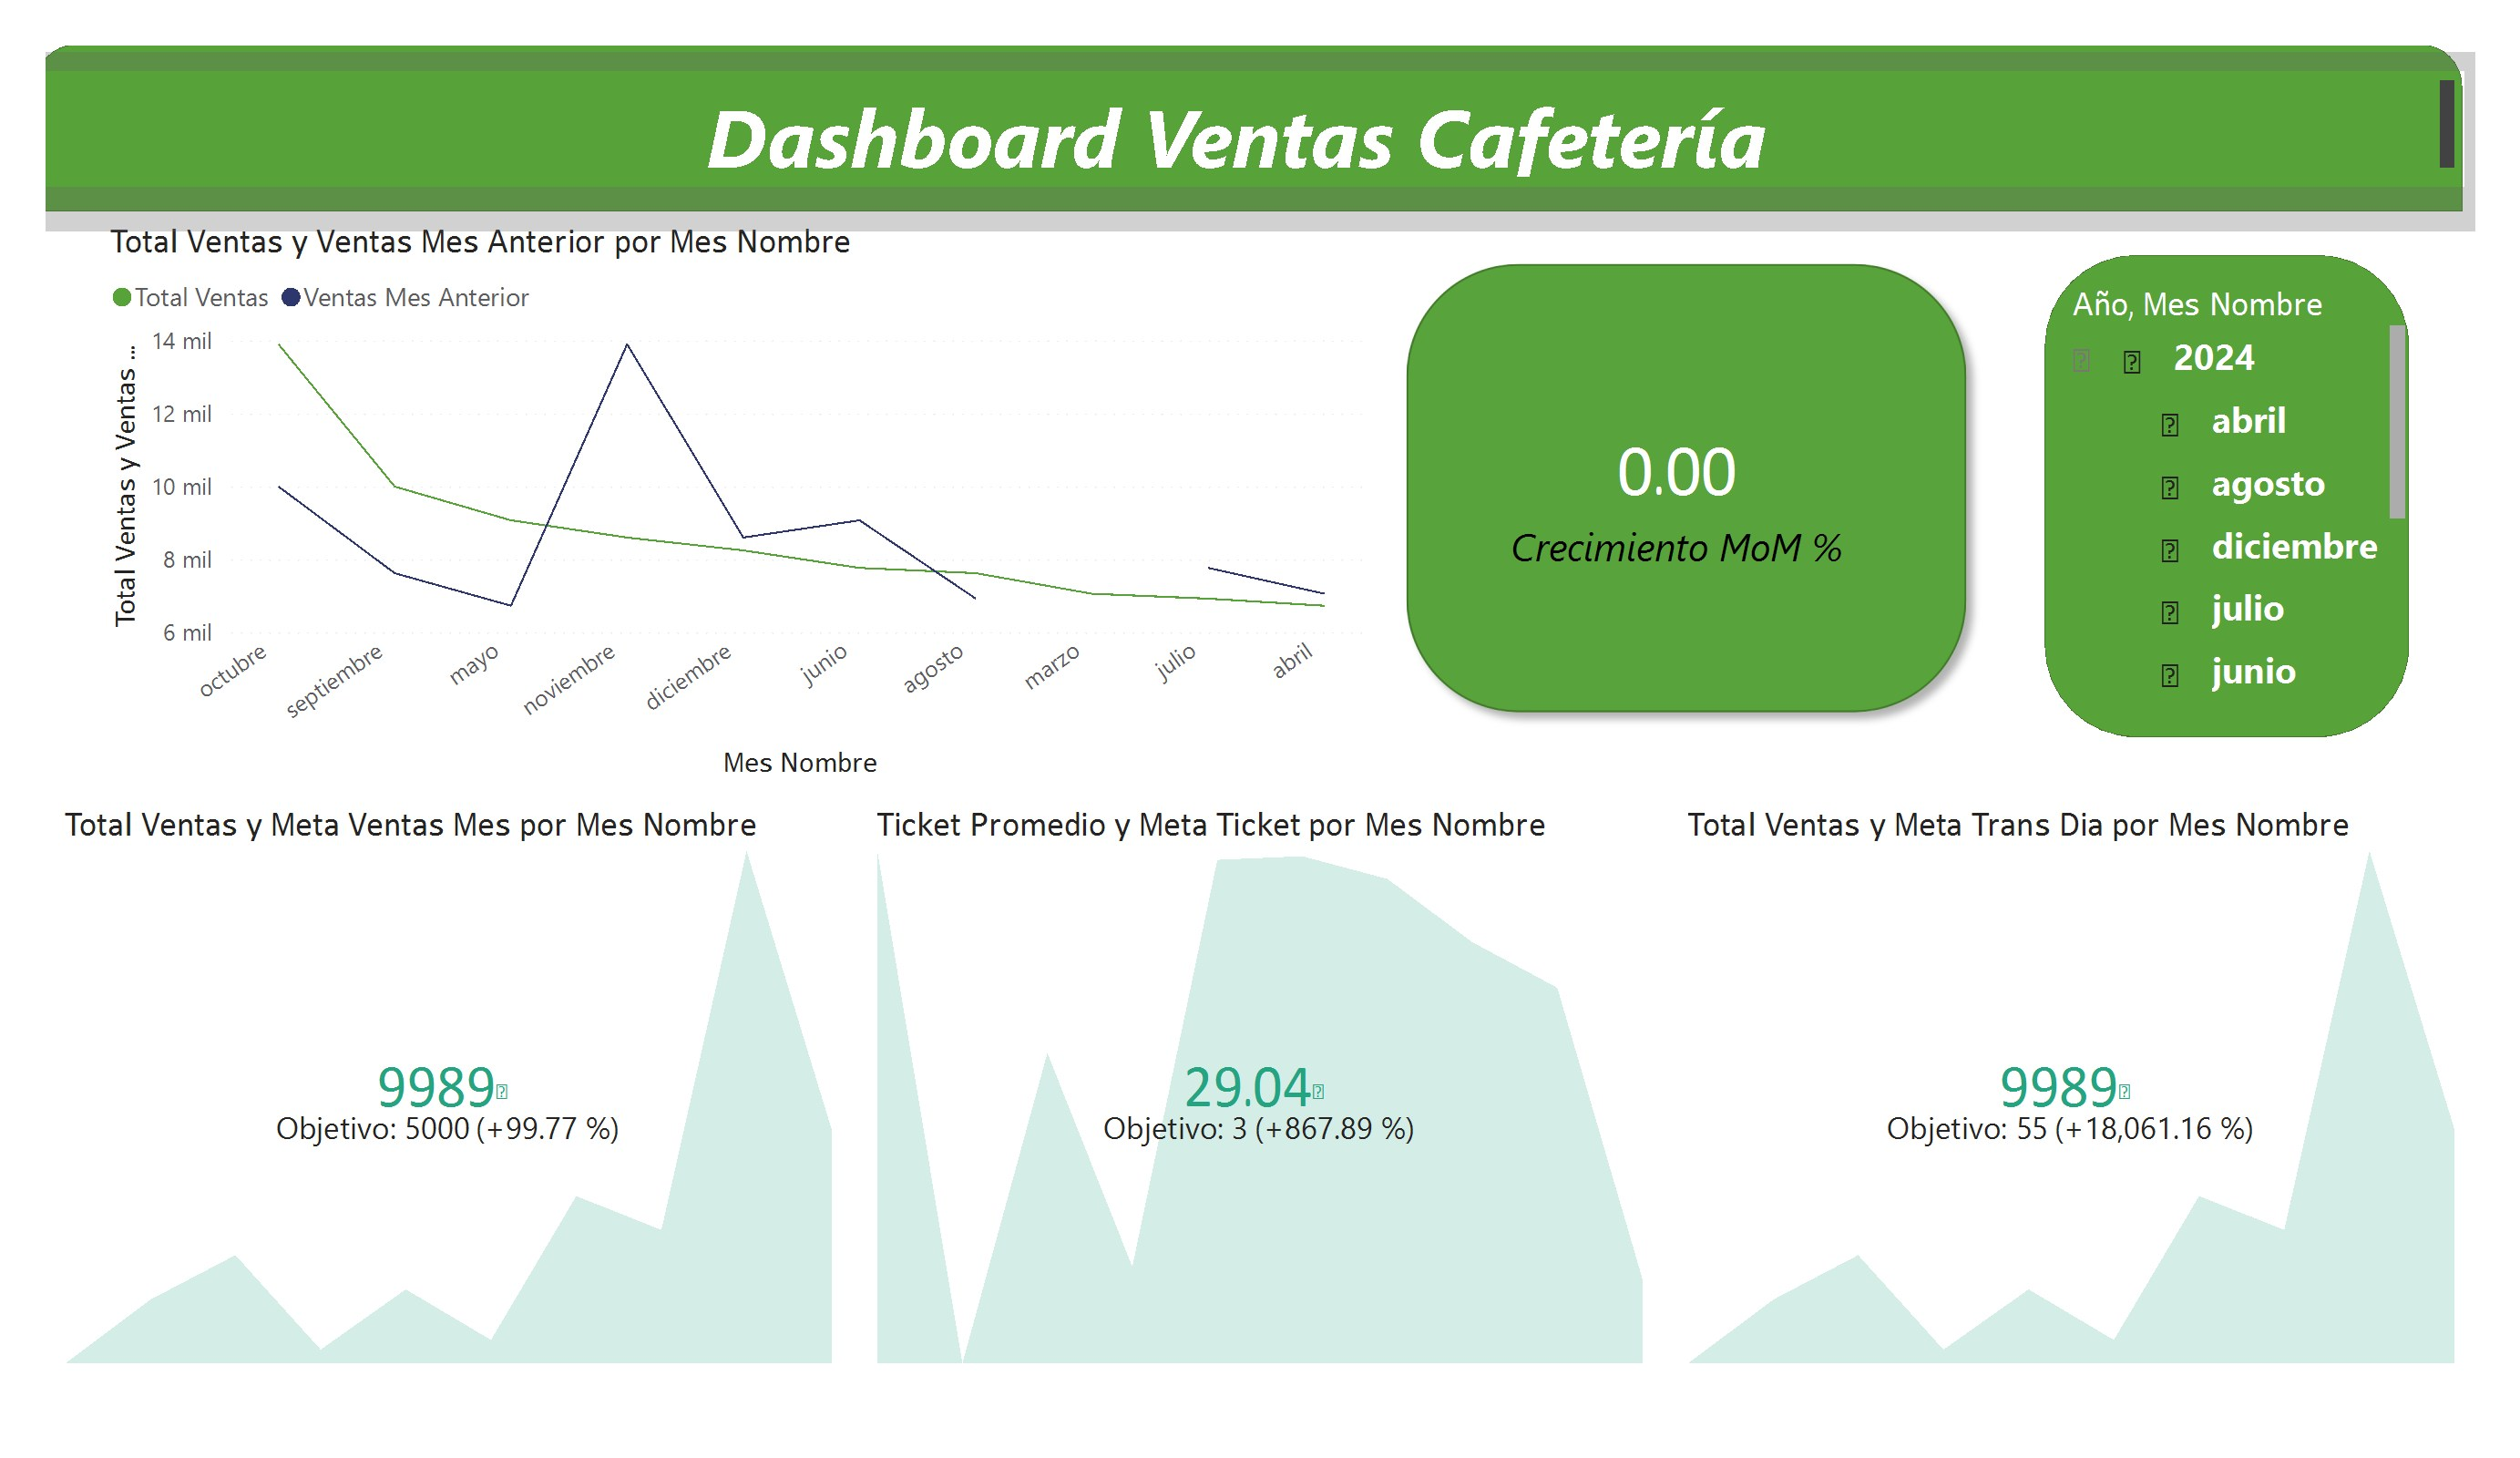

Layout of this report page (visuals, bound fields, positions):
{"tool":"powerbi","page":{"name":"Página 1","canvas":[1280,720],"ordinal":0},"visuals":[{"type":"shape","box":[1052.5,110,192.5,253.8],"z":0},{"type":"shape","box":[707.5,106.2,313.8,253.8],"z":1000},{"type":"kpi","fields":{"Indicator":["index_maquinas.Total Ventas"],"Goal":["index_maquinas.Meta Trans Dia"],"TrendLine":["Calendario.Mes Nombre"]},"box":[860,400,413.8,298.8],"z":2000},{"type":"kpi","fields":{"Indicator":["index_maquinas.Total Ventas"],"Goal":["index_maquinas.Meta Ventas Mes"],"TrendLine":["Calendario.Mes Nombre"]},"box":[5,400,413.8,298.8],"z":3000},{"type":"kpi","fields":{"Indicator":["index_maquinas.Ticket Promedio"],"Goal":["index_maquinas.Meta Ticket"],"TrendLine":["Calendario.Mes Nombre"]},"box":[432.5,400,413.8,298.8],"z":4000},{"type":"card","fields":{"Values":["index_maquinas.Crecimiento MoM %"]},"box":[702.5,107.5,313.8,253.8],"z":5000},{"type":"lineChart","fields":{"Category":["Calendario.Mes Nombre"],"Y":["index_maquinas.Total Ventas","index_maquinas.Ventas Mes Anterior"]},"box":[28.8,92.5,673.8,298.8],"z":6000},{"type":"shape","box":[-5.9,-0.7,1278.8,87.5],"z":7000},{"type":"textbox","box":[0,12.5,1273.8,61.2],"z":8000},{"type":"slicer","fields":{"Values":["Calendario.Año","Calendario.Mes Nombre"]},"box":[1055,121.2,192.5,232.5],"z":9000}]}

Visuals, with their boxes on the page's 1280x720 design canvas (x1, y1, x2, y2). These are canvas units, not pixel positions in the 2520x1458 screenshot, which may show the page scaled, cropped or inside an application window:
shape: box(1052, 110, 1245, 364)
shape: box(708, 106, 1021, 360)
kpi - index_maquinas.Total Ventas x index_maquinas.Meta Trans Dia: box(860, 400, 1274, 699)
kpi - index_maquinas.Total Ventas x index_maquinas.Meta Ventas Mes: box(5, 400, 419, 699)
kpi - index_maquinas.Ticket Promedio x index_maquinas.Meta Ticket: box(432, 400, 846, 699)
card - index_maquinas.Crecimiento MoM %: box(702, 108, 1016, 361)
lineChart - Calendario.Mes Nombre x index_maquinas.Total Ventas: box(29, 92, 703, 391)
shape: box(-6, -1, 1273, 87)
textbox: box(0, 12, 1274, 74)
slicer - Calendario.Año x Calendario.Mes Nombre: box(1055, 121, 1248, 354)
